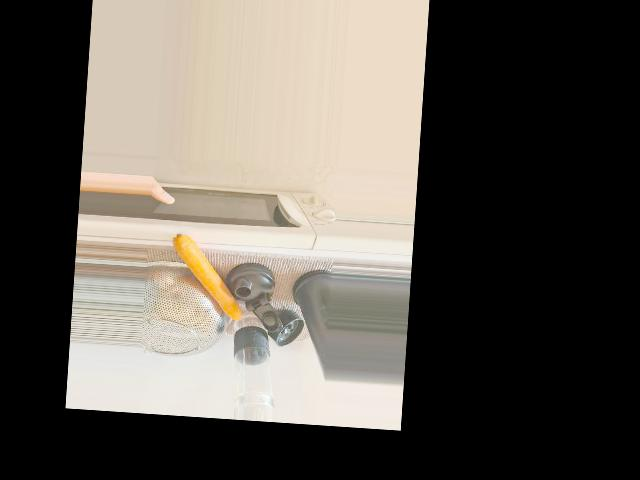carrot: (168, 232, 246, 320)
